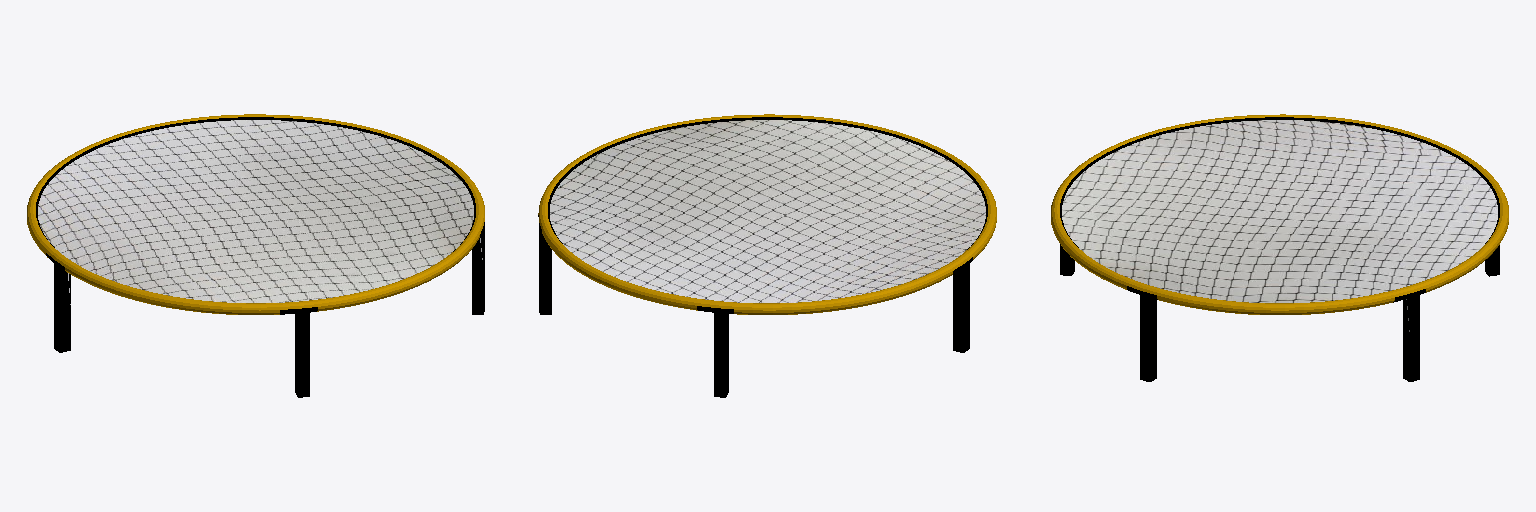
3 views of the same model, side by side, from view 1: azimuth 30°, elevation 25°; view 2: azimuth 150°, elevation 25°; view 3: azimuth 270°, elevation 25° (orthographic).
Visible parts, largest first — view 1: Net_realistic; view 2: Net_realistic; view 3: Net_realistic.
Boxes of the visible parts, box(x1,y1,x2,y2) form: Net_realistic: box(27, 114, 484, 397); Net_realistic: box(538, 114, 996, 397); Net_realistic: box(1051, 114, 1508, 381).
Bounding box in the file's own units: 0.9647 × 0.2158 × 0.9641.
Materials: 3 (1 with a texture image).